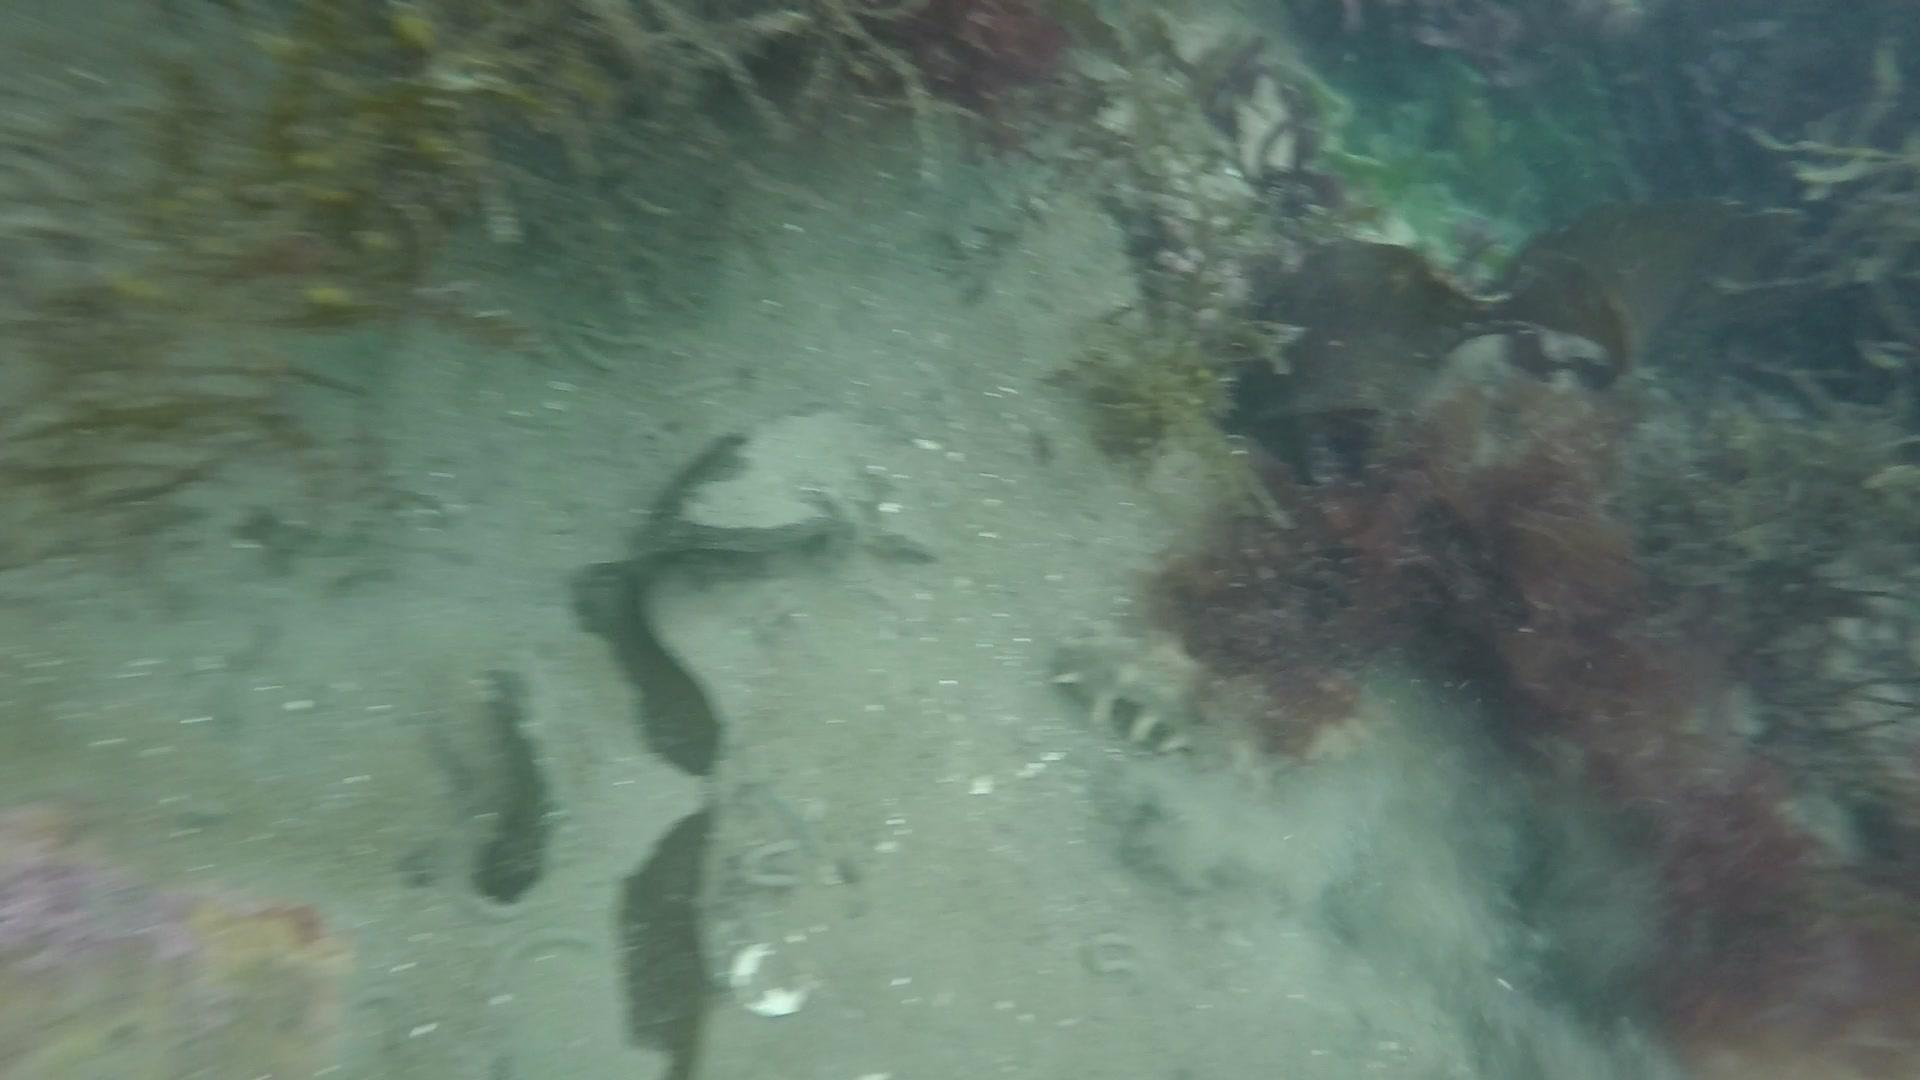holothurian: (1039, 625, 1269, 789)
